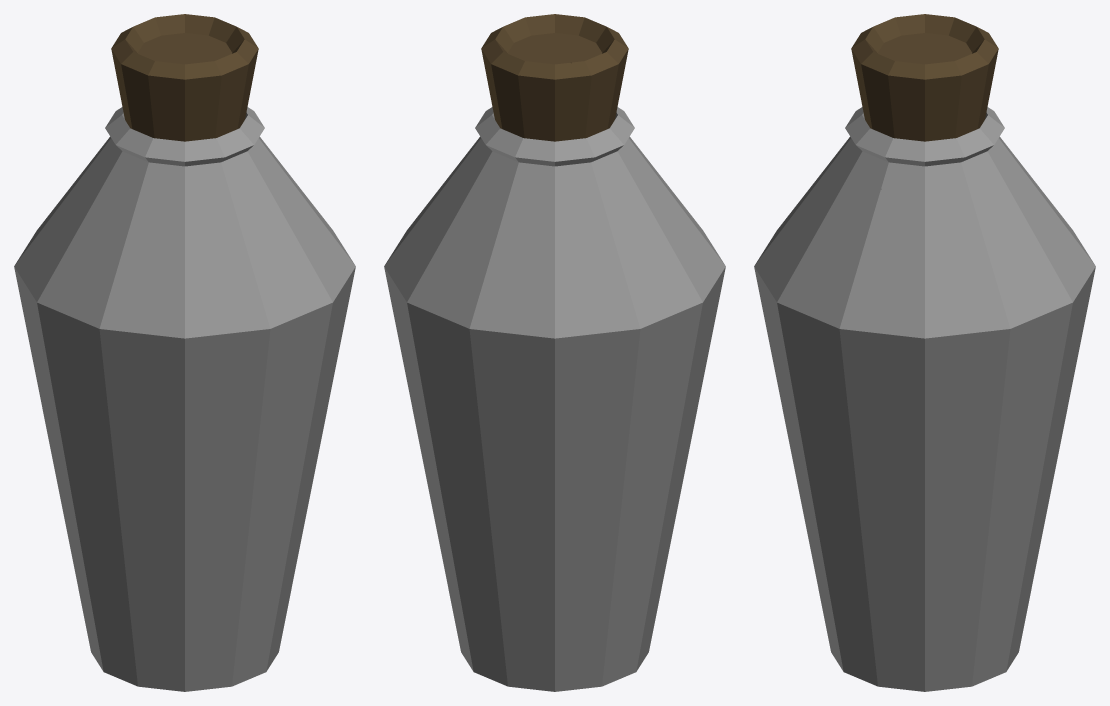
The model's file is Potion.fbx.
3 renders of one model, left to right at view 1: azimuth 30°, elevation 25°; view 2: azimuth 150°, elevation 25°; view 3: azimuth 270°, elevation 25°, orthographic.
Parts seen in each view (by area): view 1: Potion; view 2: Potion; view 3: Potion.
Boxes of the visible parts, x1,y1,x2,y2 form: Potion: (14, 14, 355, 691); Potion: (384, 14, 725, 691); Potion: (754, 14, 1095, 691).
Size of the model in its own units: 24.39 by 48.25 by 24.39.
Materials: 1 (1 with a texture image).
